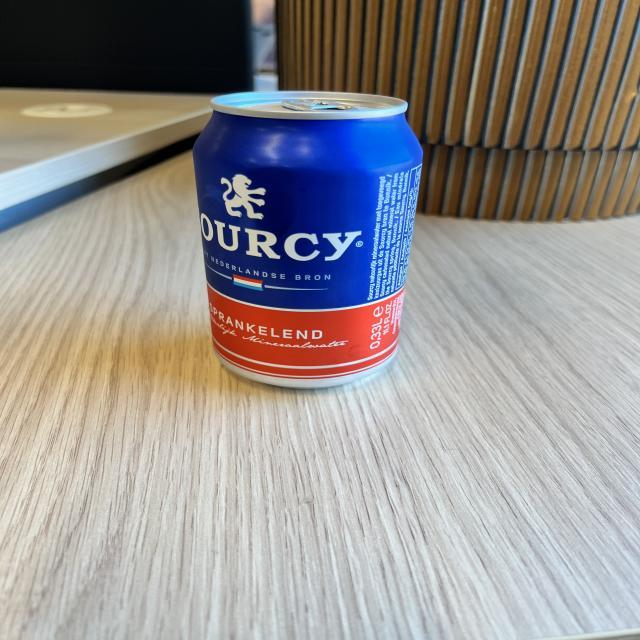kimloai: (191, 91, 424, 393)
